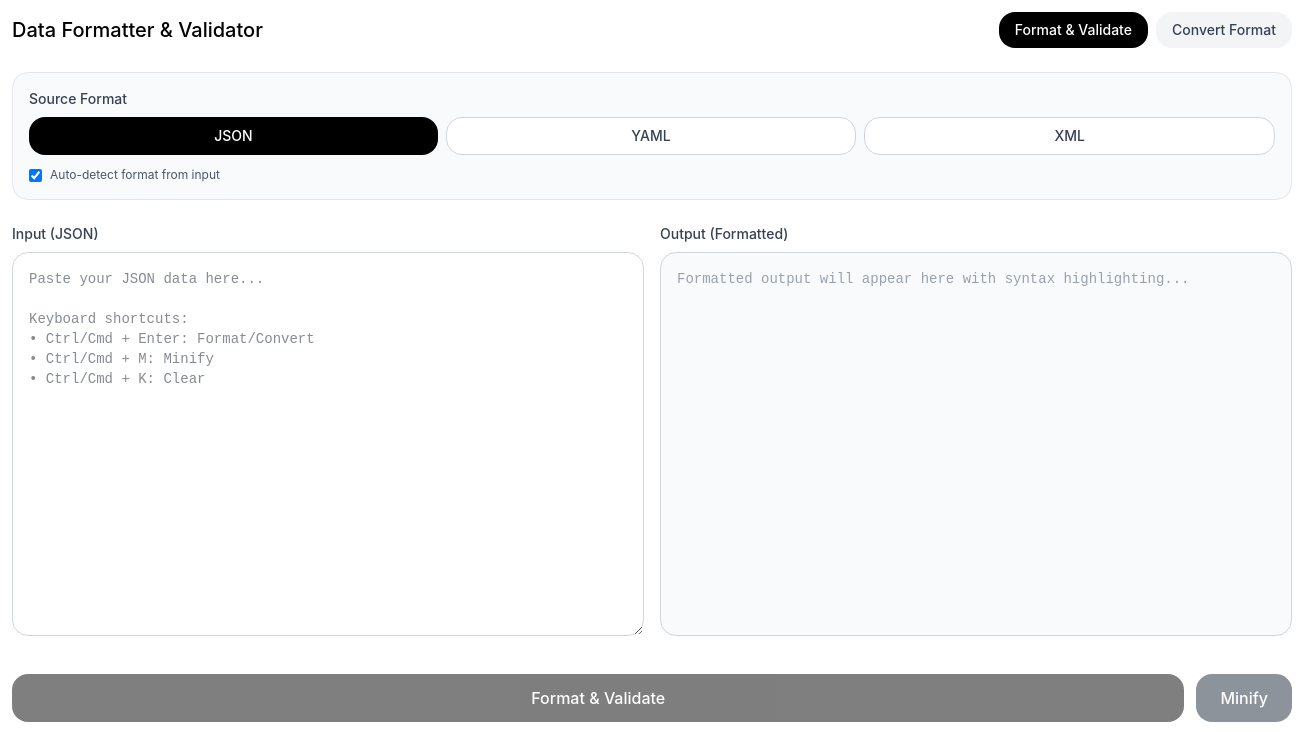
Test: DataFormatterValidator Component › Input Handling › should update input when user types
Click the text box with placeholder "Paste your JSON data here" at coordinates (328, 444), box [12,252,644,636]
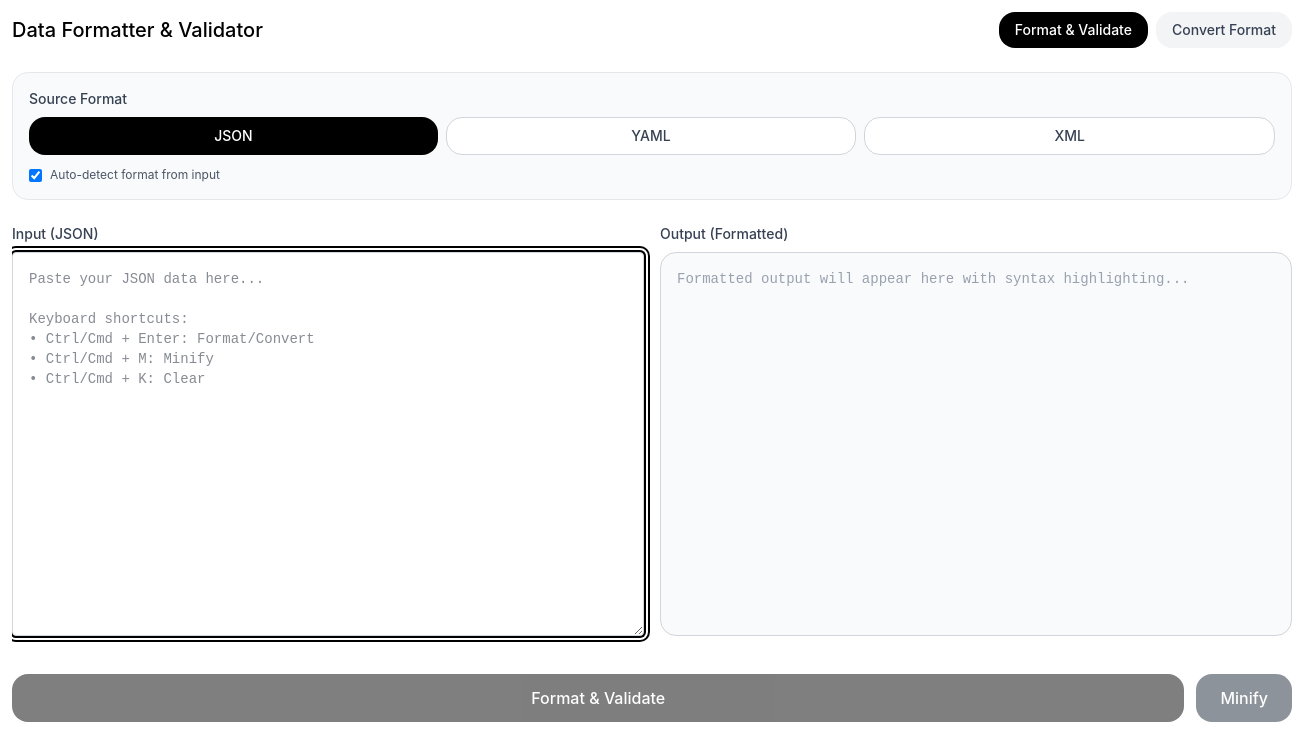
Type keys "{\"test\": \"value\"}"
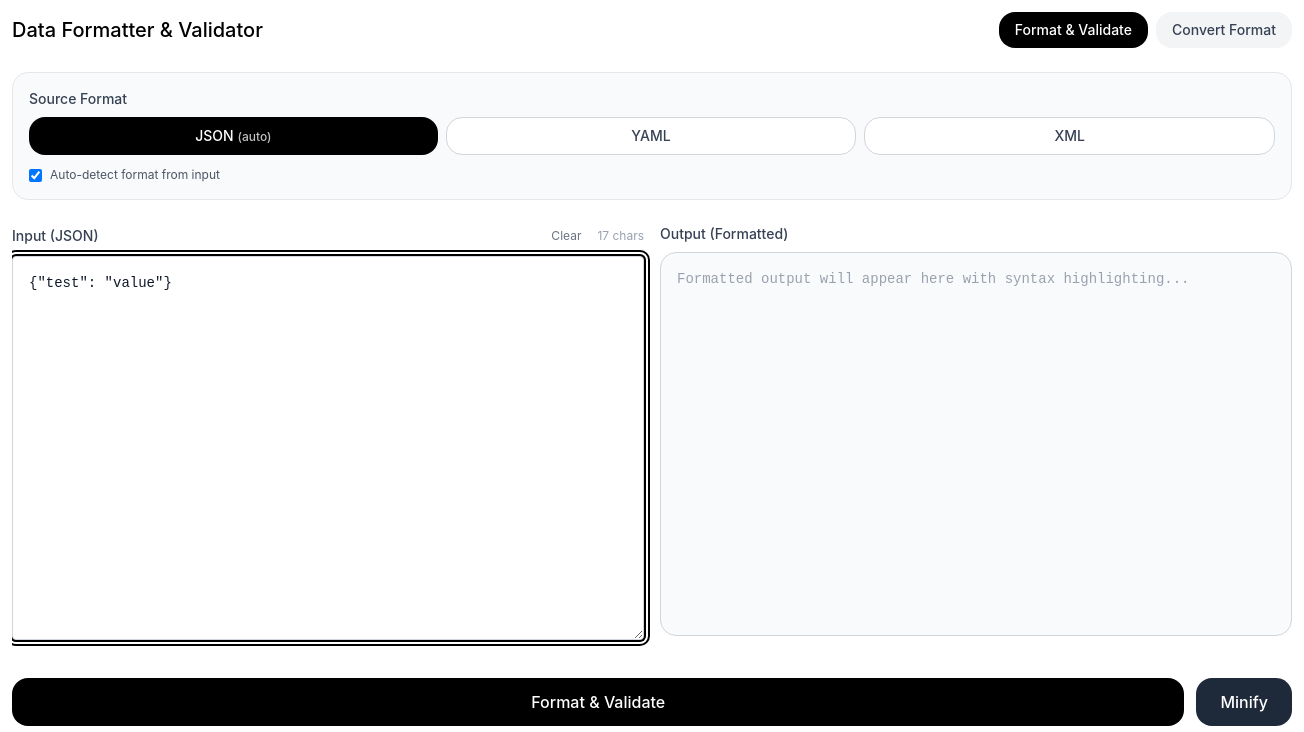
Check: the text box with placeholder "Paste your JSON data here" holds "{\"test\": \"value\"}", box [12,256,644,640]
